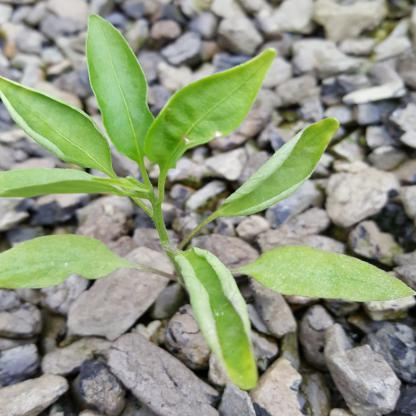Tomato leaf bacterial spot: (143, 41, 287, 169), (76, 15, 170, 178), (207, 114, 341, 222), (237, 242, 416, 309), (1, 232, 134, 286)
